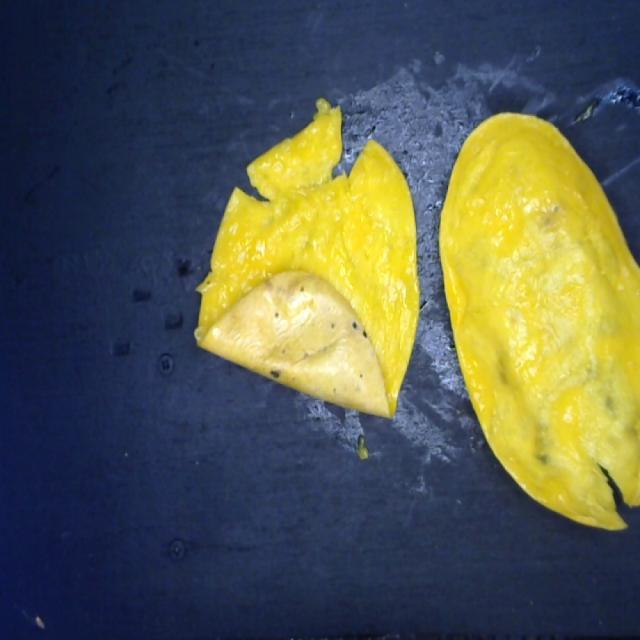biodegradable: (191, 91, 640, 540)
